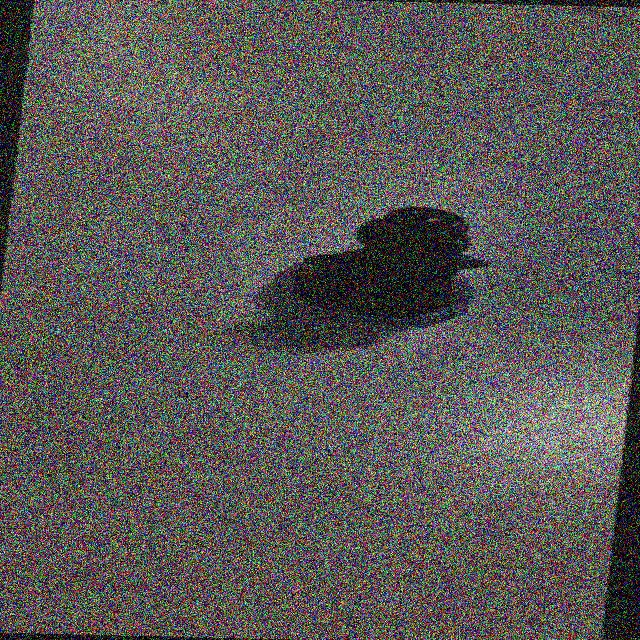Penguin: (266, 200, 498, 332)
